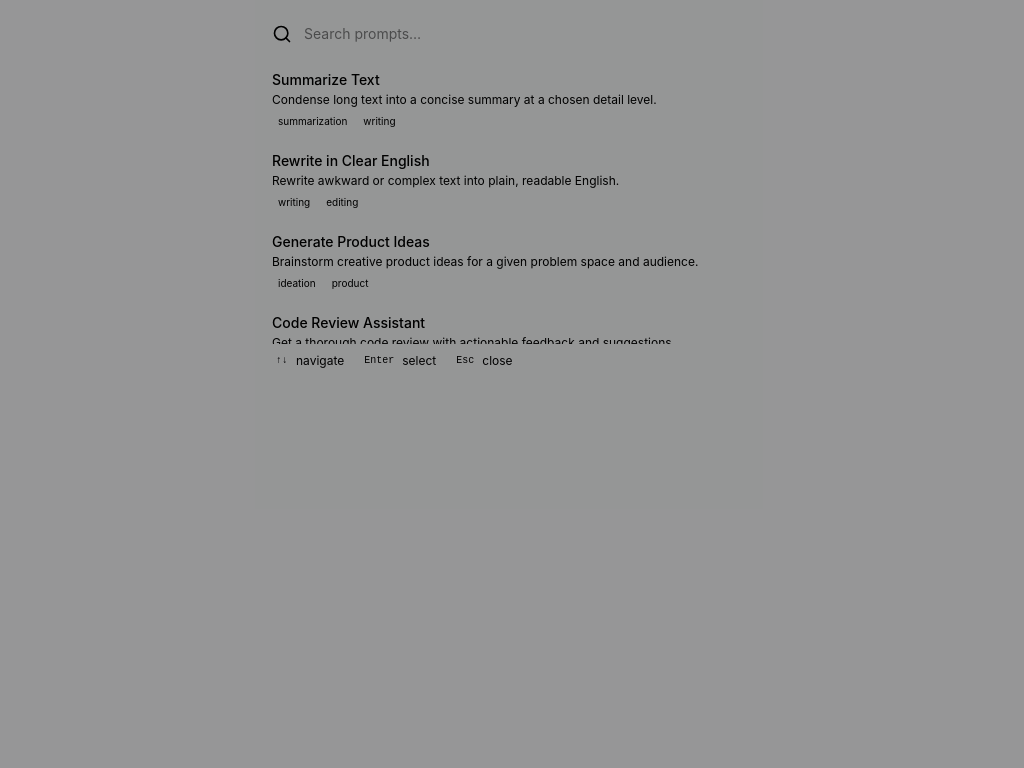
Test case: CommandPalette › filters results by tag match
In the field labelled "Search prompts": (528, 34) [304,24,752,44], type "ideation"
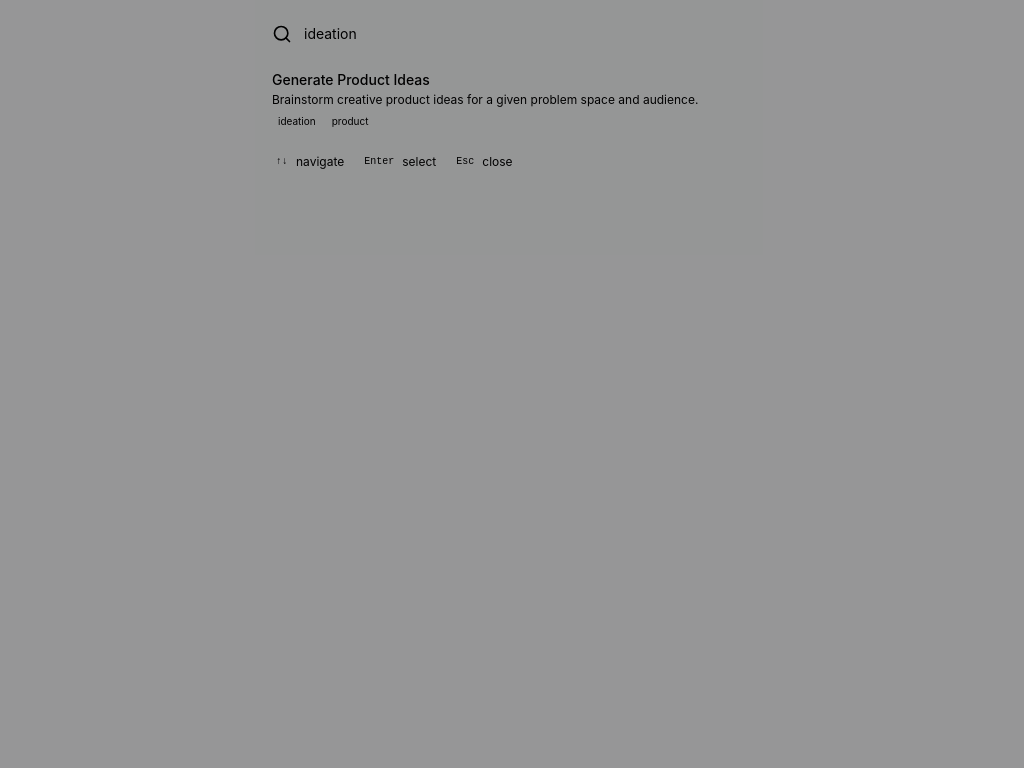
Expected: the text "Generate Product Ideas" is shown, [272,71,430,88]
Expected: the option "Summarize Text" is gone
